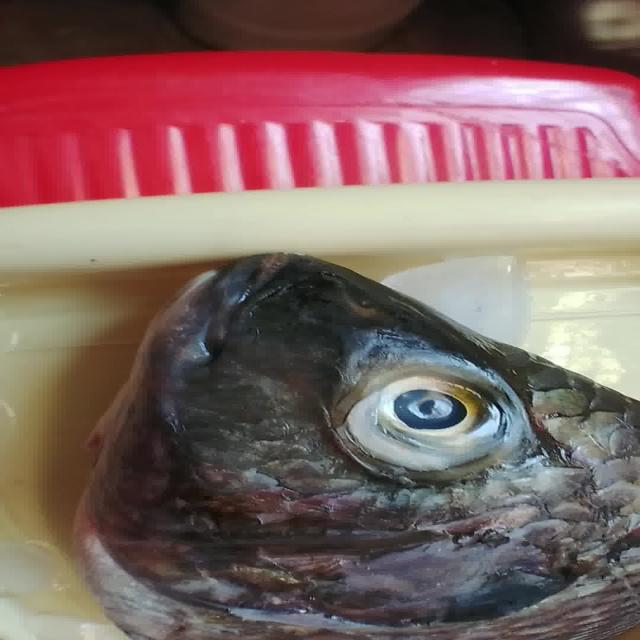Fresh: (318, 358, 540, 482)
